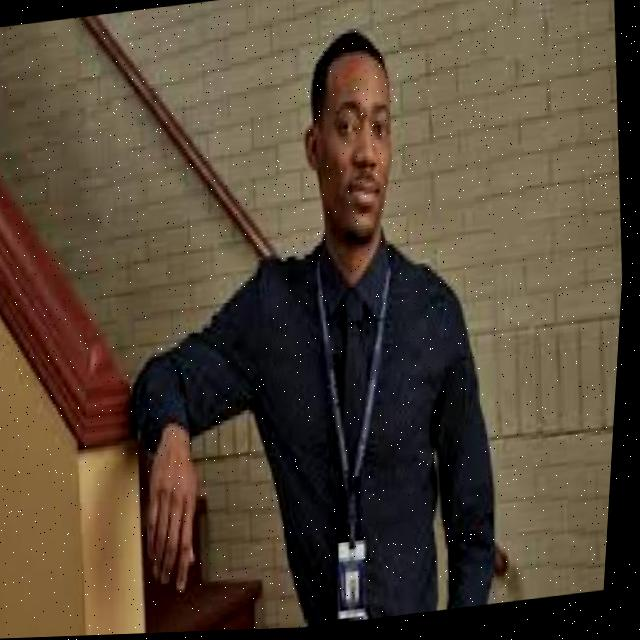id_card: (294, 240, 425, 622)
